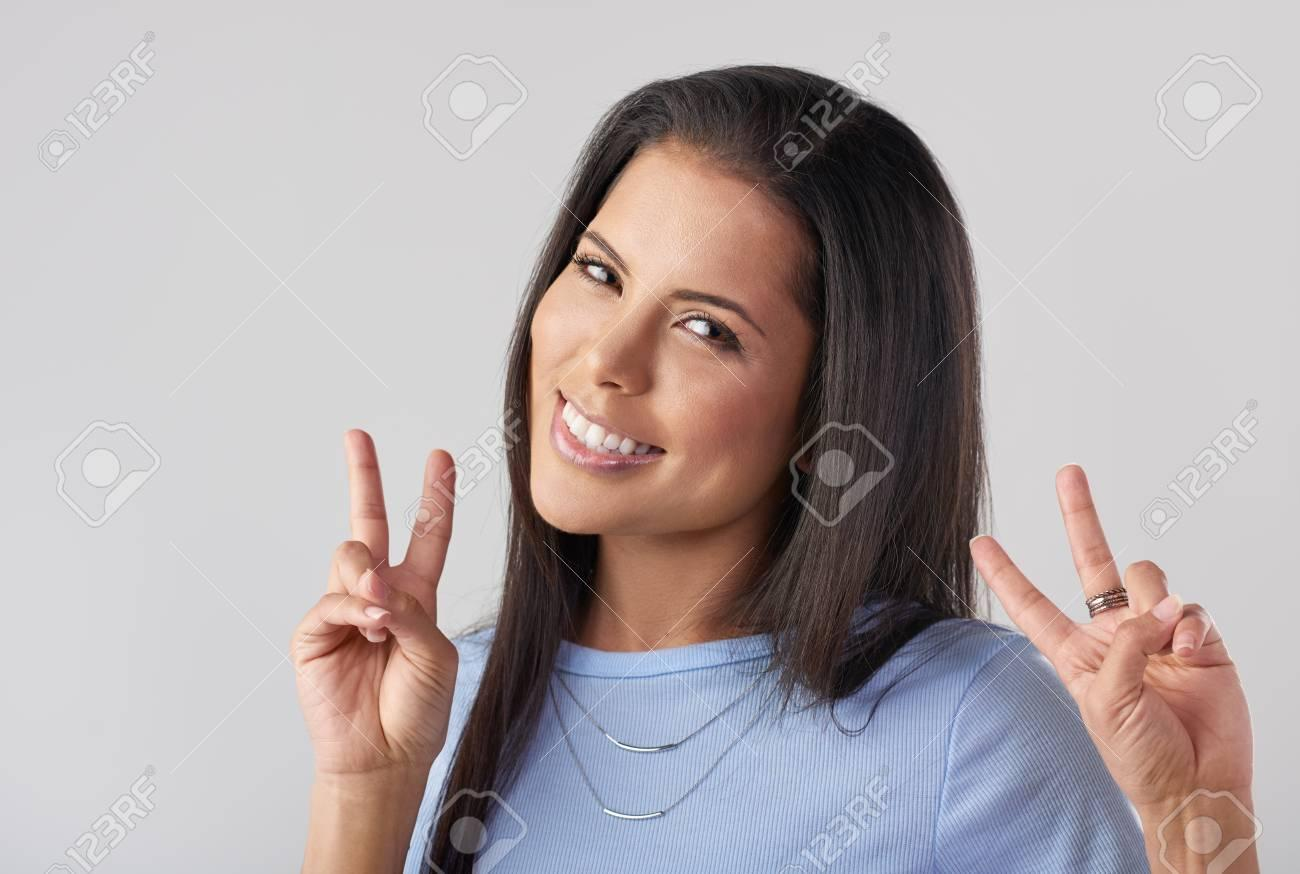peace_sign: (284, 404, 472, 802)
